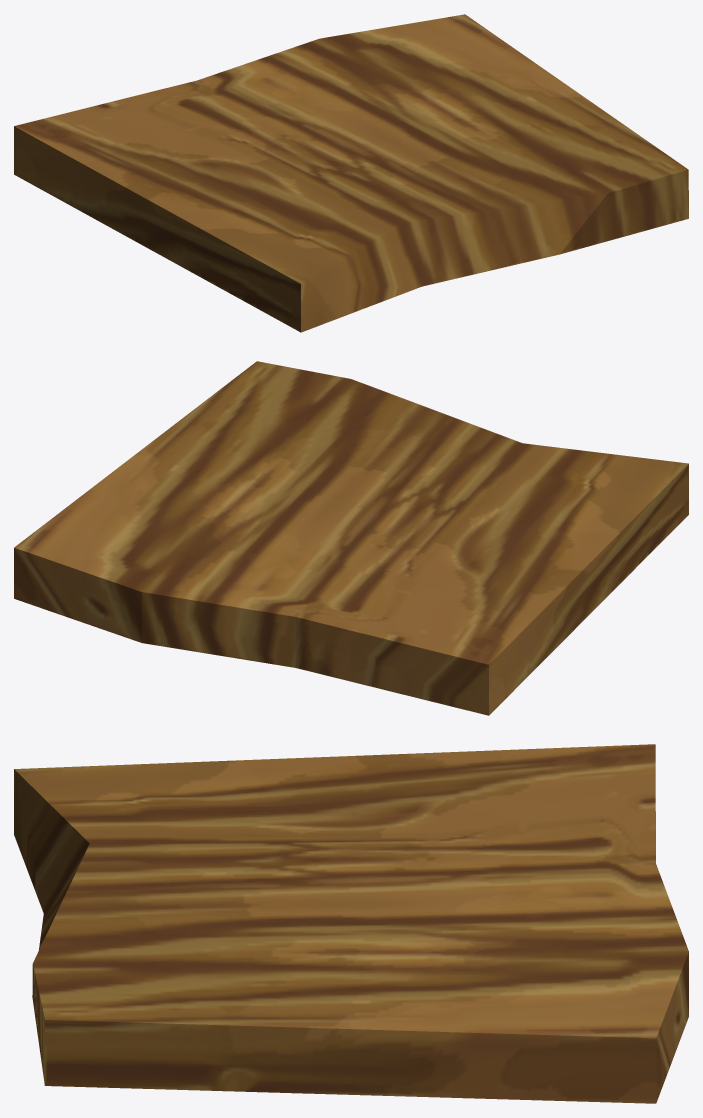
File: plank_1.5x1.5.glb
3 views of the same model, one above another, from view 1: azimuth 30°, elevation 25°; view 2: azimuth 150°, elevation 25°; view 3: azimuth 270°, elevation 25° (orthographic). The views are drawn at different scales.
Visible parts, largest first — view 1: PLanks_square_medium; view 2: PLanks_square_medium; view 3: PLanks_square_medium.
Boxes of the visible parts, x1,y1,x2,y2 form: PLanks_square_medium: (14,14,688,332); PLanks_square_medium: (14,361,688,715); PLanks_square_medium: (14,744,688,1103).
Bounding box in the file's own units: 1.61 × 0.2129 × 1.55.
1 material, 1 textured.
